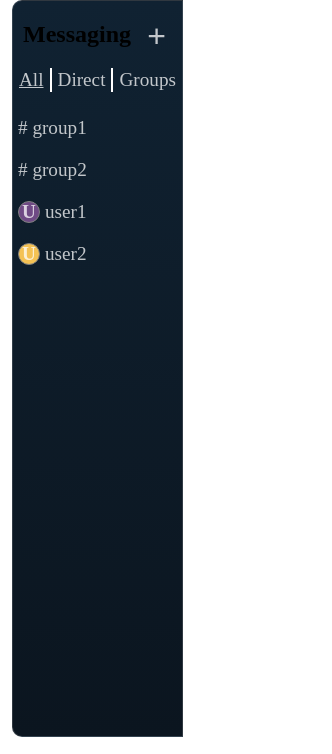
Test case: side bar component › Drop down menu to create groups disappears when clicking somewhere else in doc
Click the button "+": (157, 33) left=141, top=17, right=172, bottom=49
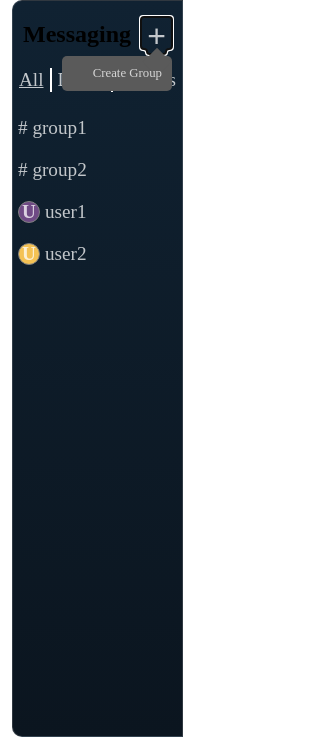
Result: the link "Create Group" is shown at left=93, top=66, right=162, bottom=80
Click the button "All": (32, 80) left=13, top=68, right=52, bottom=92
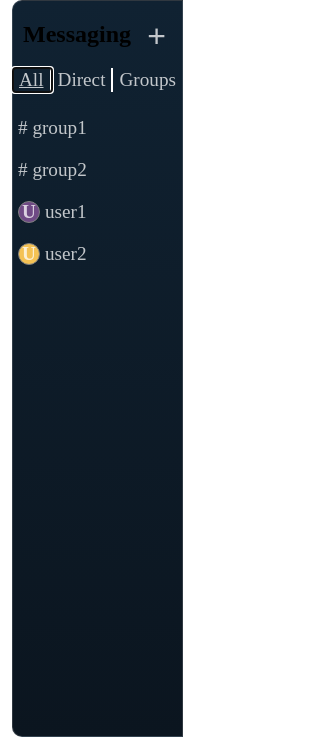
Result: the link "Create Group" is gone
